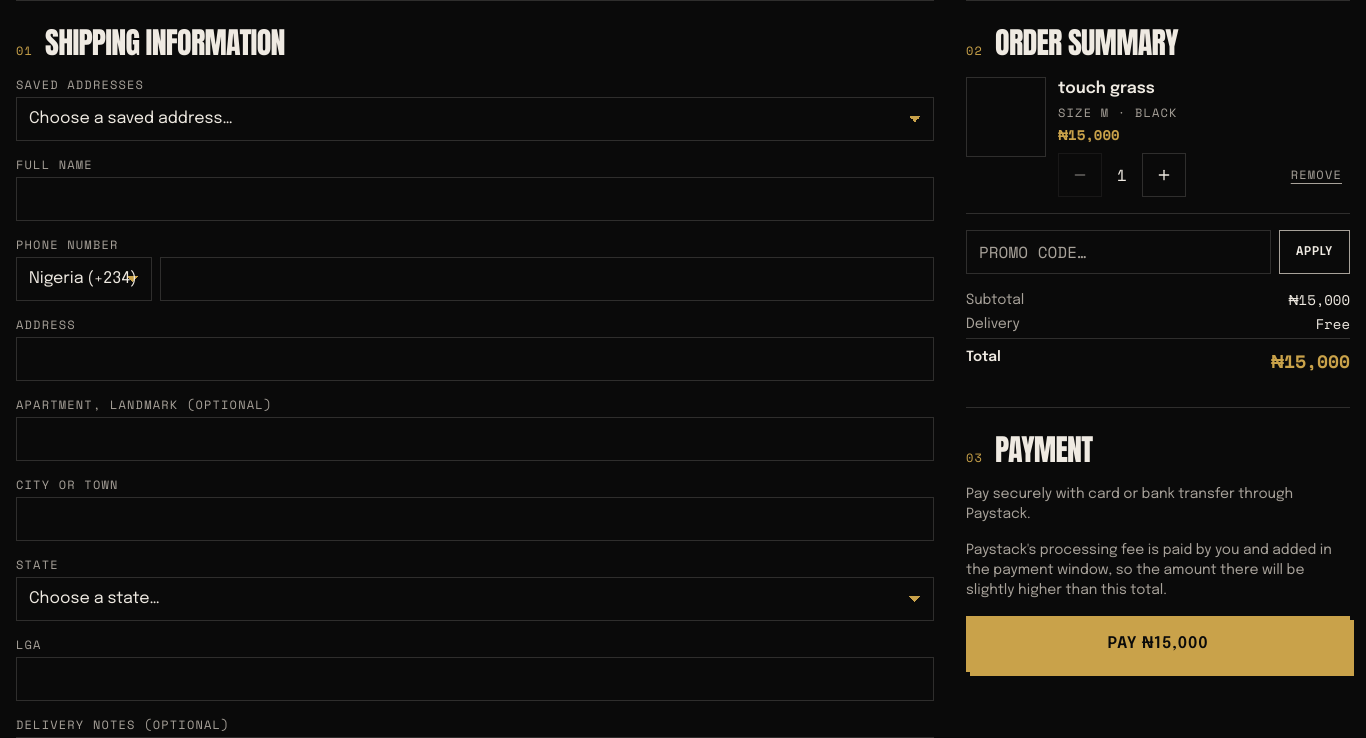
CheckoutPage › fills the form from a saved address
Select "Home (default)" in the dropdown labelled "Saved addresses" at (475, 119), box [16, 97, 934, 141]
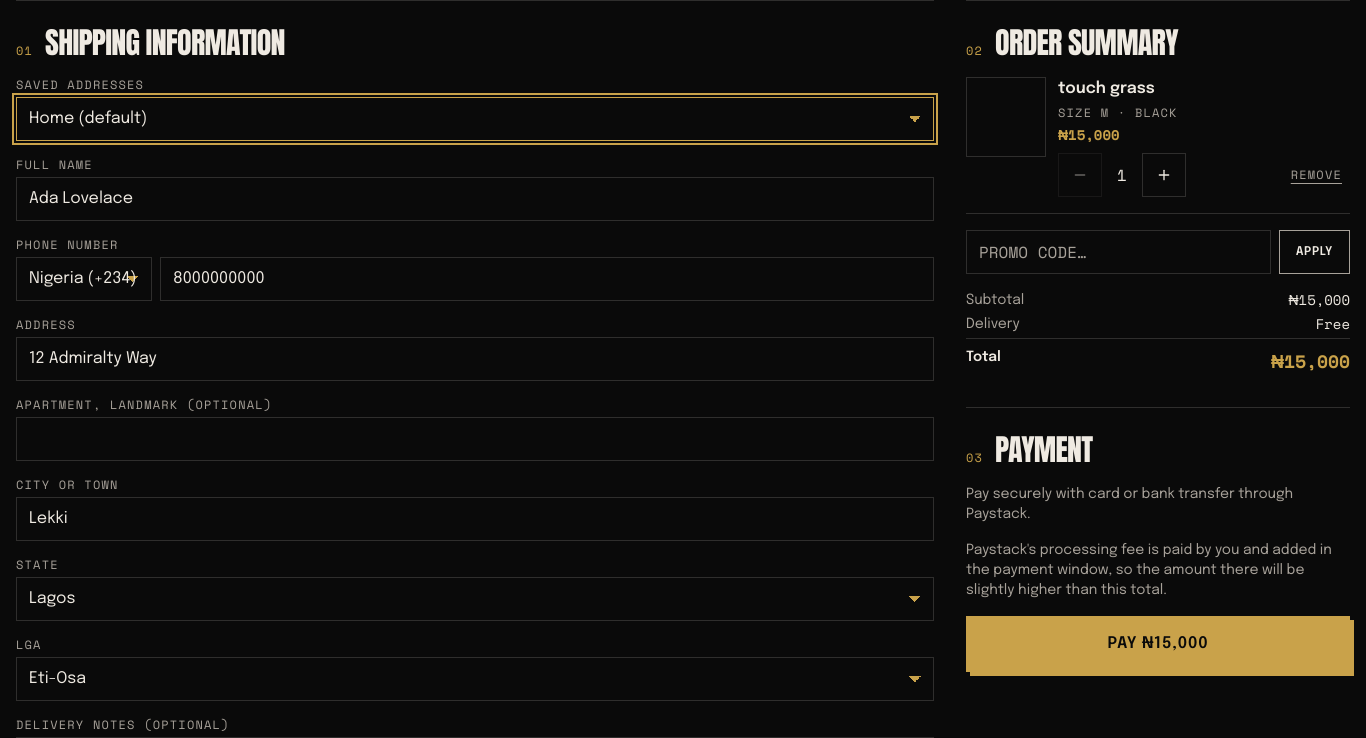
Expected: the field labelled "Full name" holds "Ada Lovelace", [16, 177, 934, 221]
Expected: the dropdown labelled "State" shows "Lagos", [16, 577, 934, 621]
Expected: the dropdown labelled "LGA" shows "Eti-Osa", [16, 657, 934, 701]
